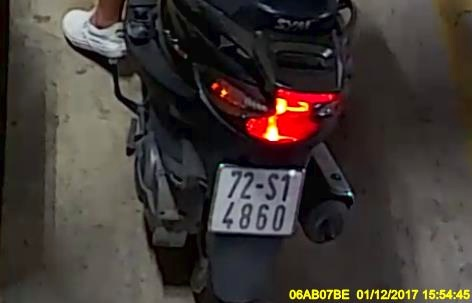plate: (212, 160, 299, 239)
